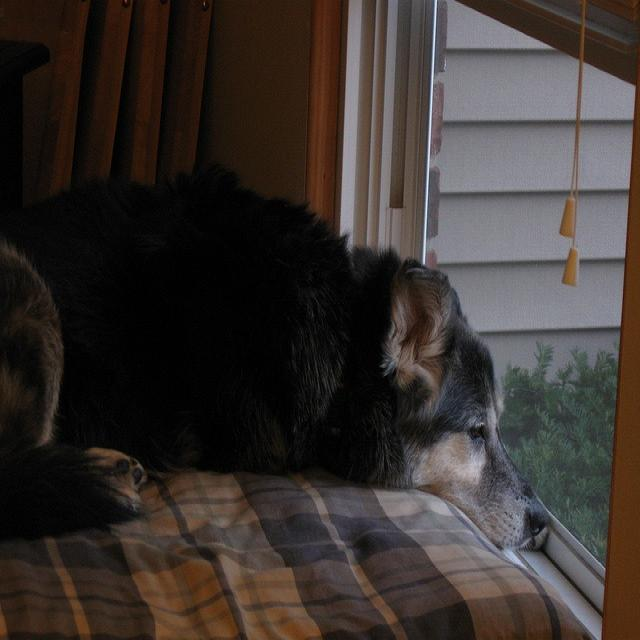dog: (0, 160, 549, 552)
